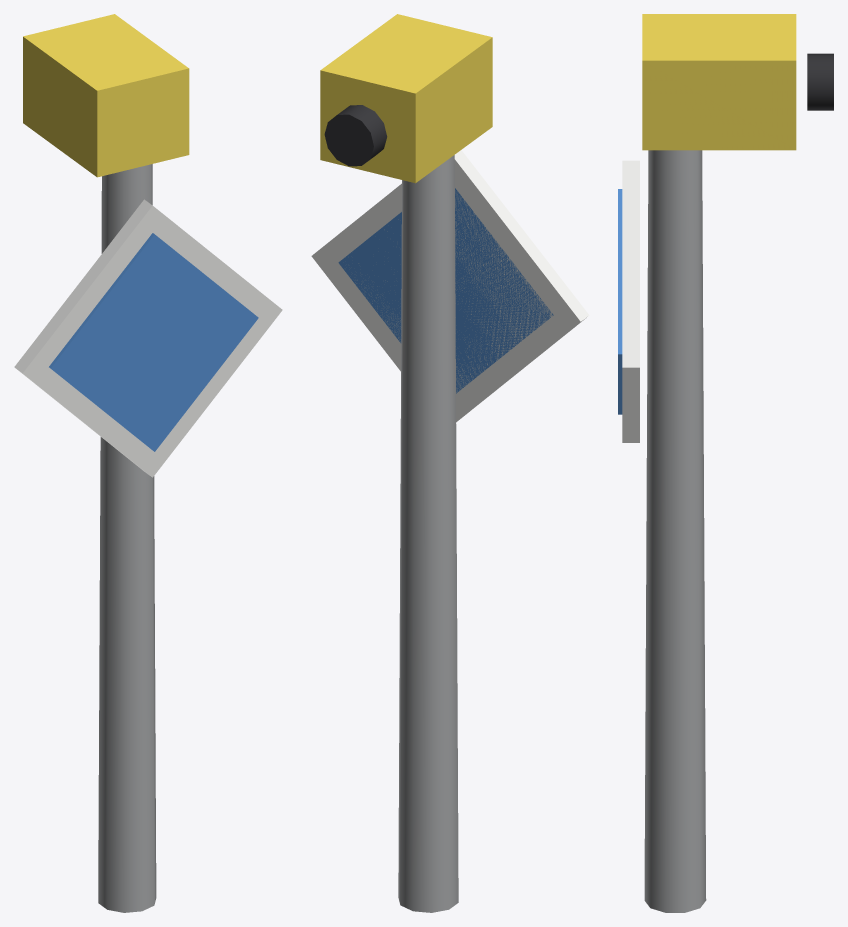
File: speedtrap_camera.glb
The picture shows the model from 3 angles, left to right: view 1: azimuth 30°, elevation 25°; view 2: azimuth 150°, elevation 25°; view 3: azimuth 270°, elevation 25°; orthographic projection. The views are drawn at different scales.
Parts seen in each view (by area): view 1: speedtrap_camera; view 2: speedtrap_camera; view 3: speedtrap_camera.
Part boxes in pixels (x1,y1,x2,y2): speedtrap_camera: (14, 14, 282, 912); speedtrap_camera: (311, 14, 589, 912); speedtrap_camera: (618, 14, 833, 912).
Bounding box in the file's own units: 1.41 × 4.33 × 0.98.
